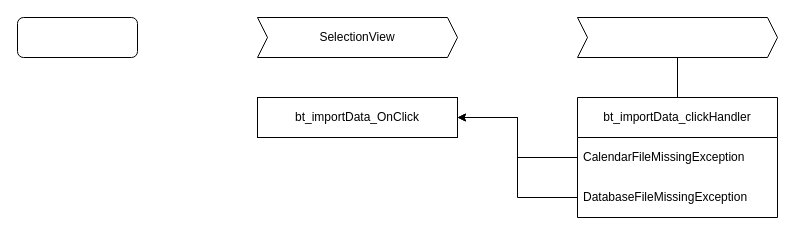
This 795x235 diagram has some shape labels left out. Each missing label, with the box of its shape:
Main Window: (16, 16, 138, 58)
SelectionViewController: (576, 16, 778, 58)
